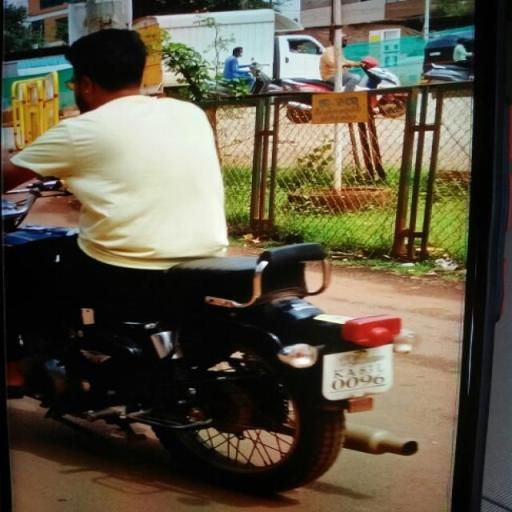bike: (4, 27, 407, 499)
withouthelmet: (72, 32, 150, 94)
